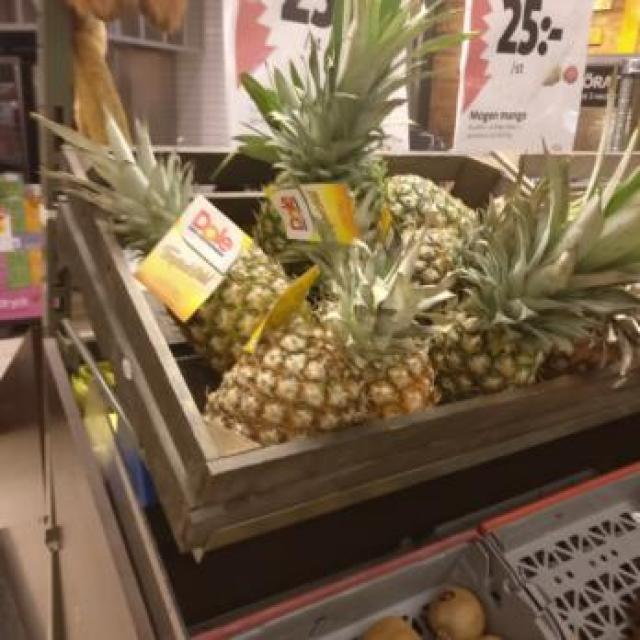pineapple: (429, 169, 640, 401), (208, 244, 439, 444), (54, 122, 191, 254), (186, 246, 289, 371), (388, 175, 476, 236)
